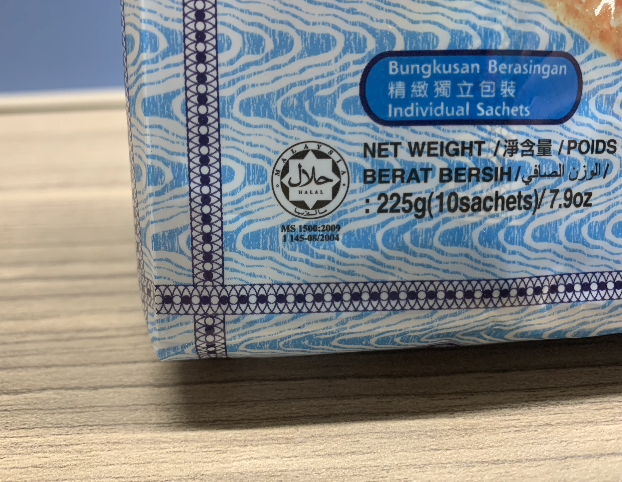halal: (286, 151, 339, 214)
